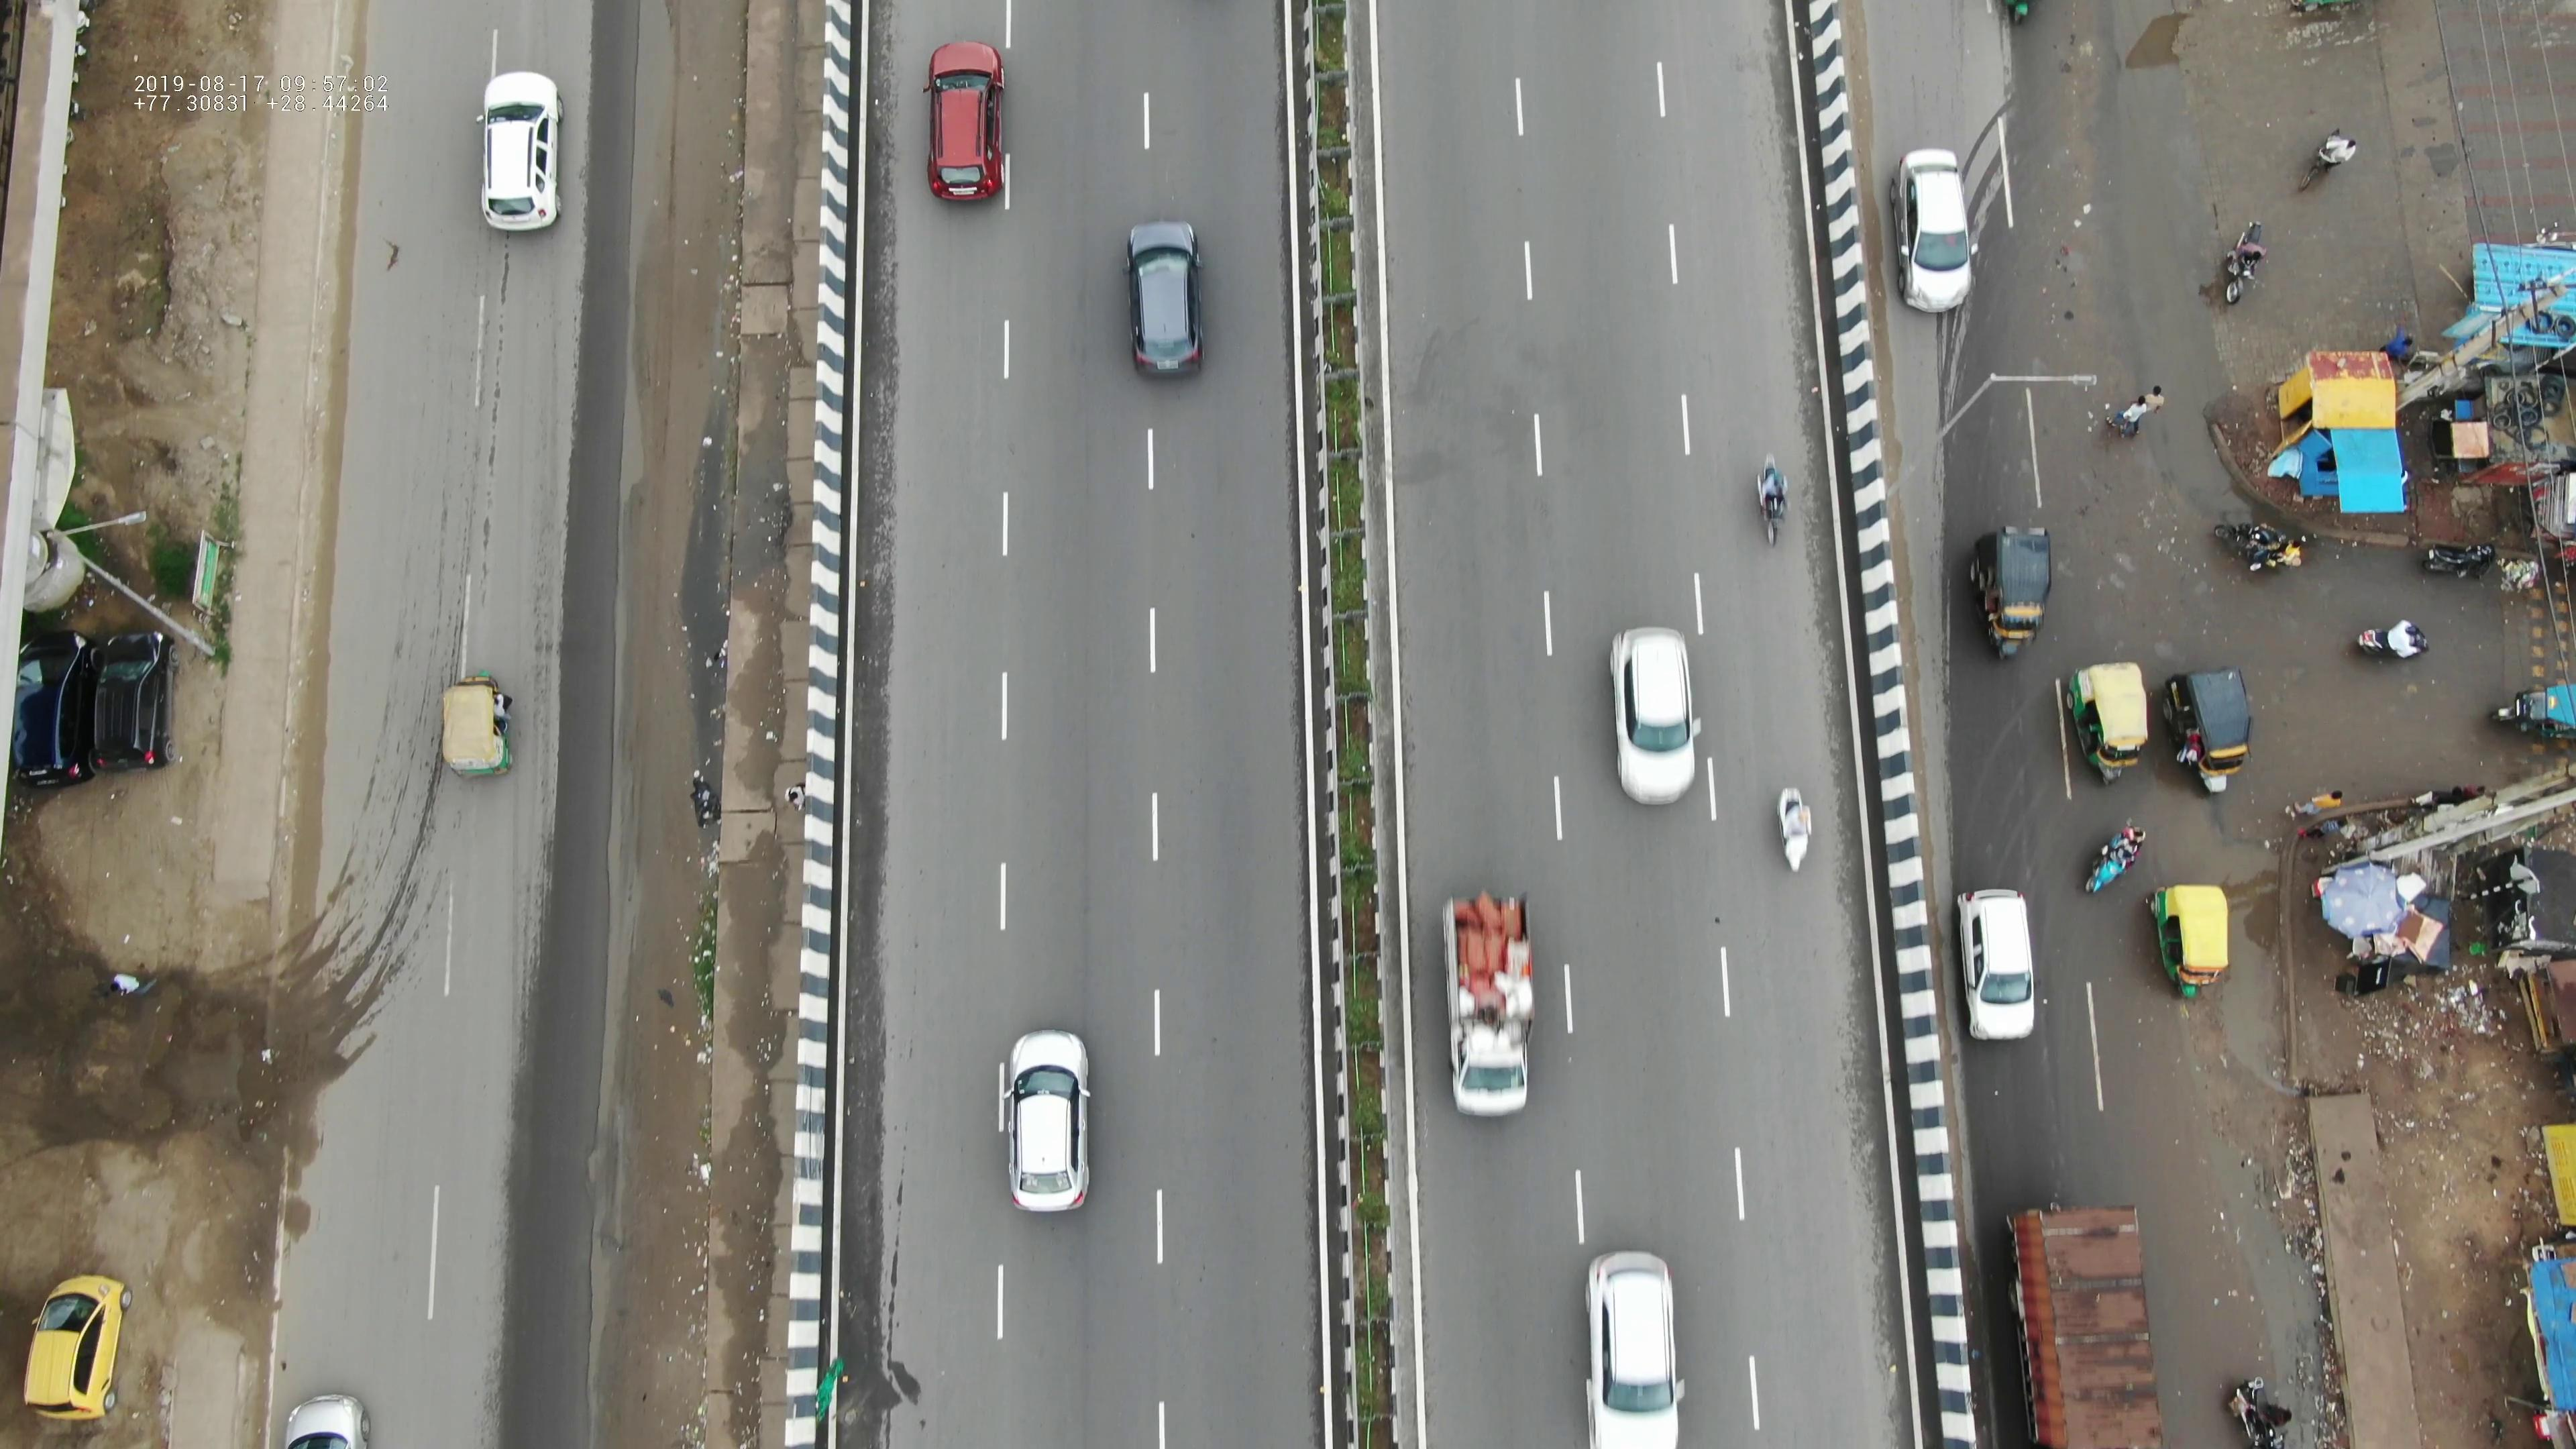Muddy_road: (587, 439, 763, 863), (571, 1136, 763, 1380)
Road_side_garbage: (2350, 975, 2519, 1083)
Waterlogging: (2240, 1122, 2341, 1362)
